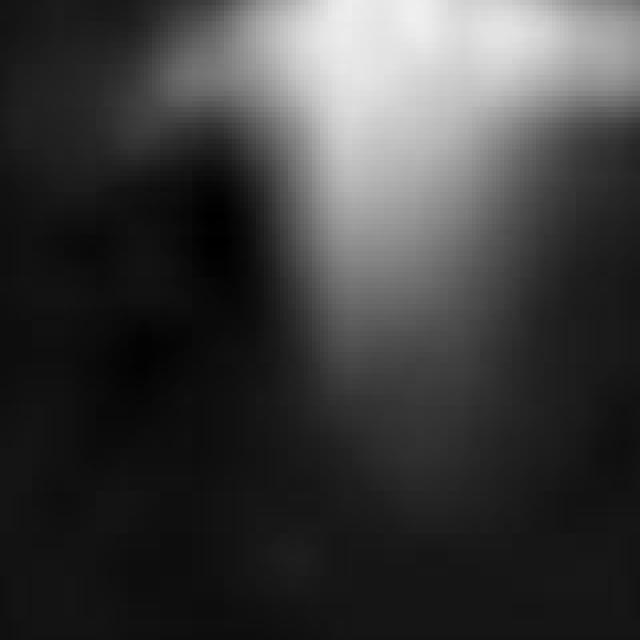person: (257, 1, 525, 422)
